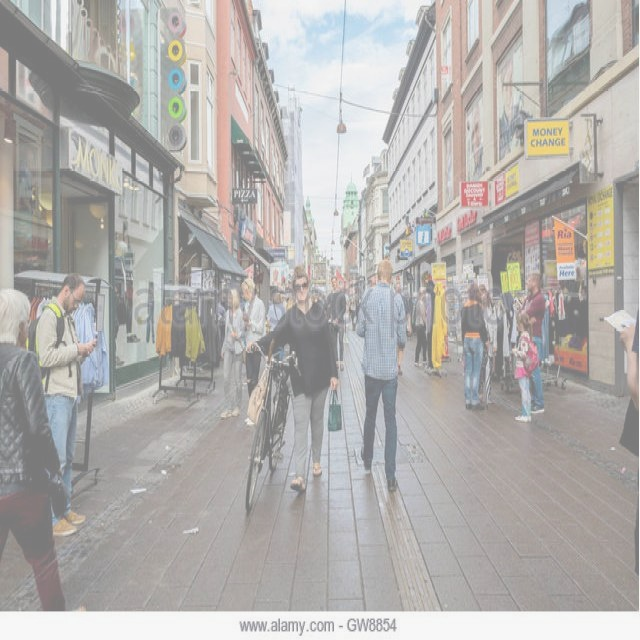pessoa: (0, 284, 90, 613), (242, 258, 346, 496), (22, 267, 100, 540), (355, 257, 408, 493), (457, 277, 492, 410), (518, 268, 547, 418), (239, 272, 269, 404), (219, 284, 245, 420), (508, 308, 533, 426), (617, 324, 639, 452), (477, 282, 499, 404), (323, 273, 348, 372), (119, 222, 139, 338), (497, 68, 524, 138), (410, 281, 430, 370), (392, 281, 407, 373), (465, 109, 486, 168), (346, 270, 364, 333), (426, 283, 437, 376), (267, 288, 286, 333), (340, 287, 351, 339), (282, 270, 295, 310), (364, 273, 378, 296), (400, 284, 408, 316), (312, 288, 322, 303)
